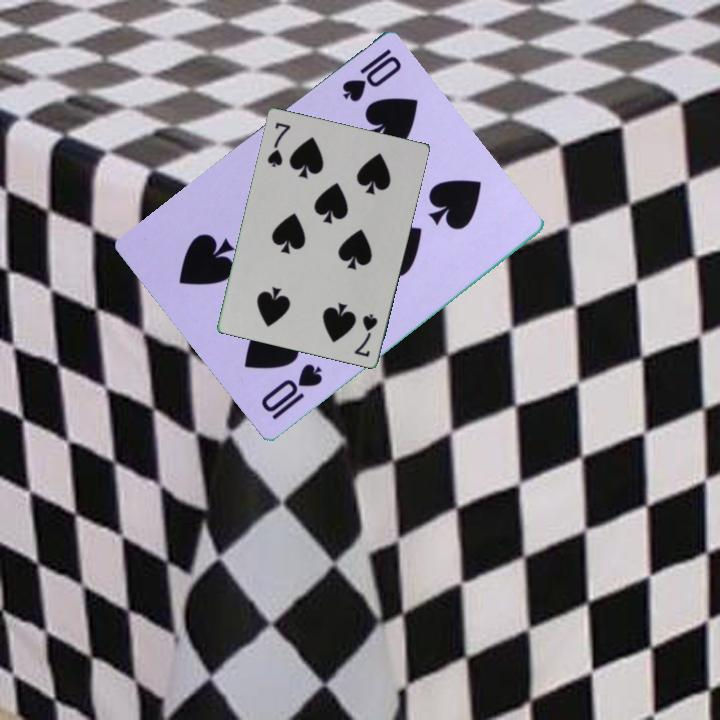10s: (257, 360, 326, 424), (338, 45, 405, 106)
7s: (263, 118, 293, 170), (350, 310, 380, 359)
